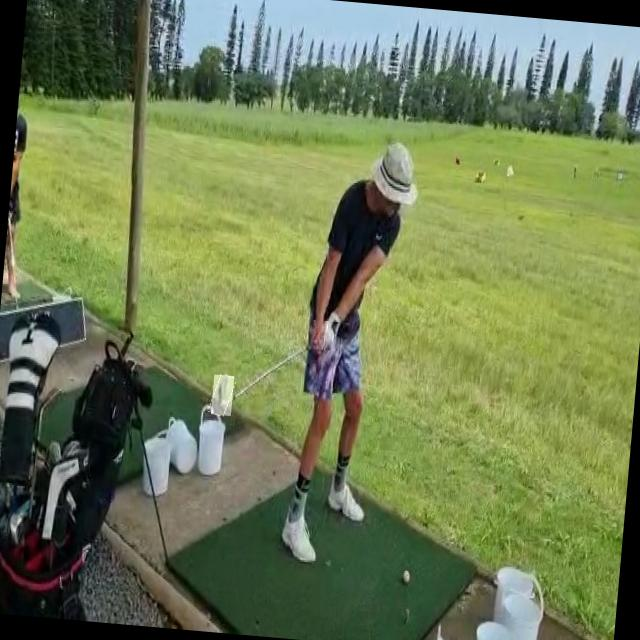club head: (210, 374, 234, 416)
